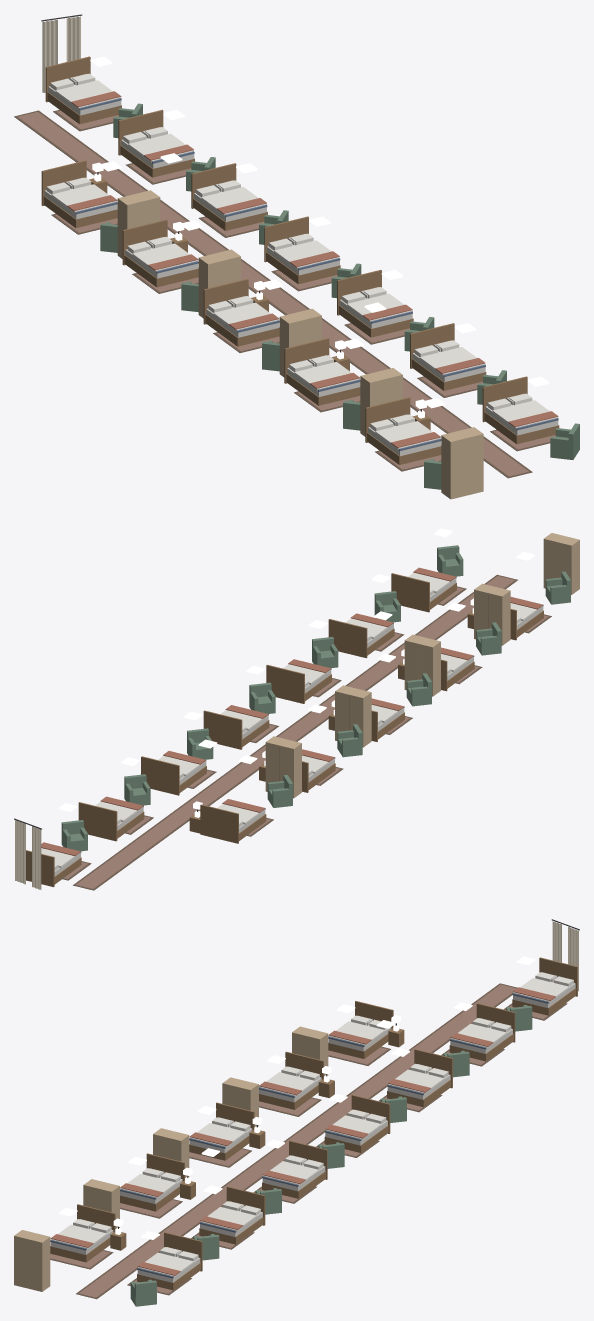
Rendered from fine-s1.glb.
The picture shows the model from 3 angles, top to bottom: view 1: azimuth 30°, elevation 25°; view 2: azimuth 150°, elevation 25°; view 3: azimuth 330°, elevation 25°; orthographic projection. The views are drawn at different scales.
Parts seen in each view (by area): view 1: soft-s1, dresser.004, bed-frame.002, bed-frame.003, bed-frame.001, bed-frame.004, bed-frame.000, bed-frame.005, bed-frame.011, bed-frame.007, bed-frame.009, bed-frame.008 (+7 smaller); view 2: soft-s1, dresser.001, dresser.002, dresser.000, dresser.003, dresser.004, bed-frame.000, bed-frame.006, bed-frame.008, bed-frame.010, bed-frame.007, bed-frame.009 (+18 smaller); view 3: soft-s1, dresser.004, bed-frame.006, bed-frame.008, bed-frame.010, bed-frame.009, bed-frame.007, bed-frame.011, bed-frame.005, bed-frame.004, bed-frame.001, bed-frame.003 (+7 smaller).
Boxes of the visible parts, x1,y1,x2,y2 form: soft-s1: (14, 14, 558, 478); dresser.004: (441, 427, 483, 499); bed-frame.002: (203, 278, 279, 346); bed-frame.003: (284, 338, 360, 405); bed-frame.001: (122, 219, 198, 287); bed-frame.004: (365, 397, 441, 464); bed-frame.000: (41, 160, 117, 227); bed-frame.005: (45, 56, 121, 124); bed-frame.011: (482, 376, 559, 444); bed-frame.007: (191, 163, 267, 230); bed-frame.009: (337, 270, 413, 337); bed-frame.008: (264, 216, 340, 284); soft-s1: (14, 567, 551, 890); dresser.001: (335, 685, 371, 747); dresser.002: (404, 634, 440, 696); dresser.000: (265, 736, 301, 798); dresser.003: (474, 583, 510, 645); dresser.004: (543, 533, 579, 594); bed-frame.000: (200, 804, 266, 843); bed-frame.006: (78, 802, 144, 841); bed-frame.008: (203, 710, 269, 749); bed-frame.010: (328, 619, 394, 658); bed-frame.007: (141, 756, 206, 795); bed-frame.009: (266, 664, 331, 703); soft-s1: (50, 919, 579, 1299); dresser.004: (14, 1230, 50, 1291); bed-frame.006: (449, 1003, 515, 1061); bed-frame.008: (324, 1094, 390, 1152); bed-frame.010: (199, 1186, 265, 1244); bed-frame.009: (262, 1140, 327, 1198); bed-frame.007: (387, 1049, 452, 1107); bed-frame.011: (137, 1232, 202, 1290); bed-frame.005: (512, 957, 577, 1015); bed-frame.004: (50, 1204, 115, 1262); bed-frame.001: (259, 1051, 323, 1109); bed-frame.003: (120, 1153, 184, 1211).
Size of the model in its own units: 5.68 by 2.56 by 32.67.
